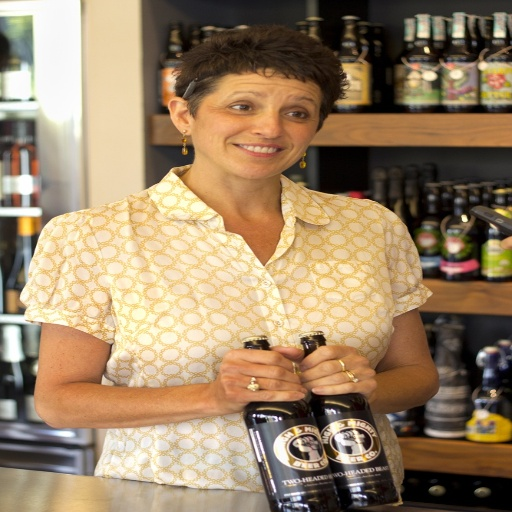hand: (208, 348, 307, 416), (297, 343, 379, 396)
